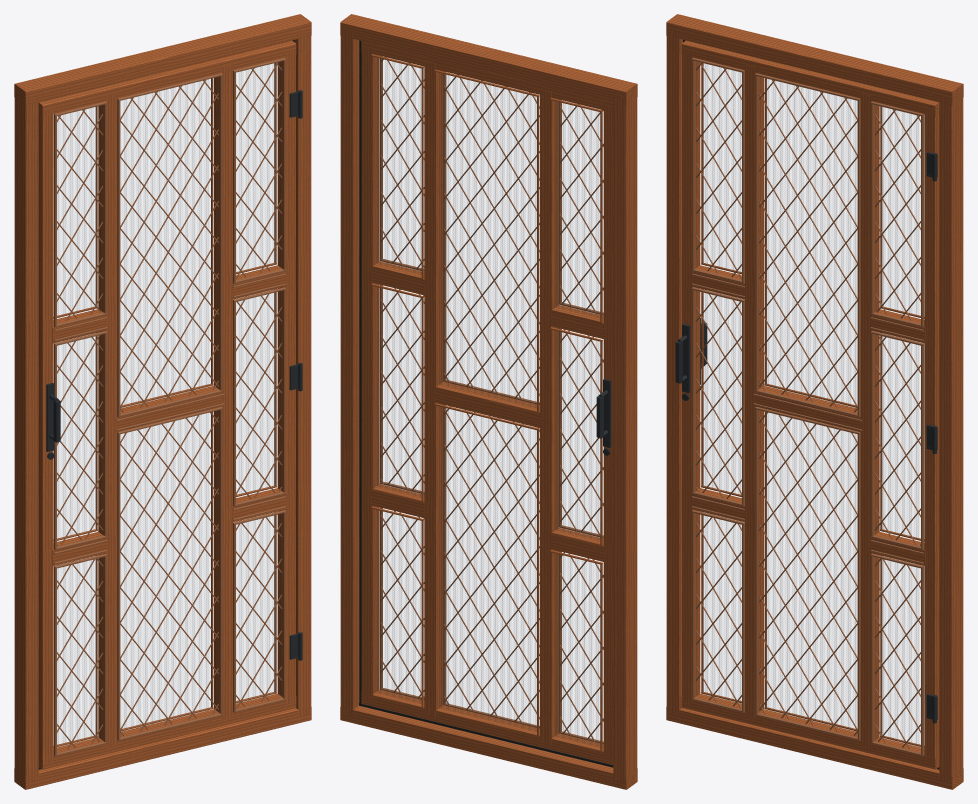
Rendered from wood-finish-side-panel-screen-door-01.glb.
3 views of the same model, side by side, from view 1: azimuth 30°, elevation 25°; view 2: azimuth 150°, elevation 25°; view 3: azimuth 330°, elevation 25° (orthographic).
Parts seen in each view (by area): view 1: Diamond grille, Outer jamb left stile, Full-height mullion 0.182, Full-height mullion -0.182, Outer jamb right stile, Woven screen 1, Door leaf right stile, Door leaf left stile, Woven screen 0, Outer jamb top rail, Outer jamb bottom rail, Door leaf top rail (+34 smaller); view 2: Diamond grille, Outer jamb left stile, Outer jamb right stile, Woven screen 1, Woven screen 0, Full-height mullion 0.182, Full-height mullion -0.182, Door leaf right stile, Outer jamb top rail, Door leaf left stile, Outer jamb bottom rail, Woven screen 7 (+36 smaller); view 3: Diamond grille, Outer jamb right stile, Outer jamb left stile, Full-height mullion -0.182, Full-height mullion 0.182, Woven screen 1, Woven screen 0, Door leaf left stile, Door leaf right stile, Outer jamb top rail, Outer jamb bottom rail, Door leaf top rail (+36 smaller).
Part boxes in pixels (x1,y1,x2,y2): Diamond grille: (57, 62, 282, 749); Outer jamb left stile: (14, 91, 38, 782); Full-height mullion 0.182: (214, 65, 232, 719); Full-height mullion -0.182: (98, 93, 117, 748); Outer jamb right stile: (295, 30, 311, 716); Woven screen 1: (121, 79, 213, 406); Door leaf right stile: (277, 49, 295, 704); Door leaf left stile: (38, 109, 53, 763); Woven screen 0: (121, 412, 213, 730); Outer jamb top rail: (14, 14, 311, 105); Outer jamb bottom rail: (14, 707, 311, 789); Door leaf top rail: (38, 40, 296, 116); Diamond grille: (380, 57, 603, 741); Outer jamb left stile: (613, 91, 637, 782); Outer jamb right stile: (340, 29, 359, 716); Woven screen 1: (439, 74, 536, 407); Woven screen 0: (439, 407, 536, 731); Full-height mullion 0.182: (424, 61, 443, 715); Full-height mullion -0.182: (540, 89, 558, 744); Door leaf right stile: (361, 46, 379, 700); Outer jamb top rail: (340, 14, 637, 105); Door leaf left stile: (603, 105, 613, 758); Outer jamb bottom rail: (340, 705, 637, 789); Woven screen 7: (377, 59, 421, 274); Diamond grille: (695, 62, 920, 749); Outer jamb right stile: (939, 91, 963, 782); Outer jamb left stile: (666, 29, 682, 716); Full-height mullion -0.182: (745, 65, 763, 719); Full-height mullion 0.182: (860, 93, 879, 748); Woven screen 1: (765, 79, 857, 407); Woven screen 0: (765, 413, 857, 730); Door leaf left stile: (682, 50, 700, 704); Door leaf right stile: (924, 109, 939, 763); Outer jamb top rail: (666, 14, 963, 105); Outer jamb bottom rail: (666, 707, 963, 789); Door leaf top rail: (681, 40, 939, 116).
Bounding box in the file's own units: 0.9 × 2.1 × 0.151.
Materials: 5 (2 with a texture image).
